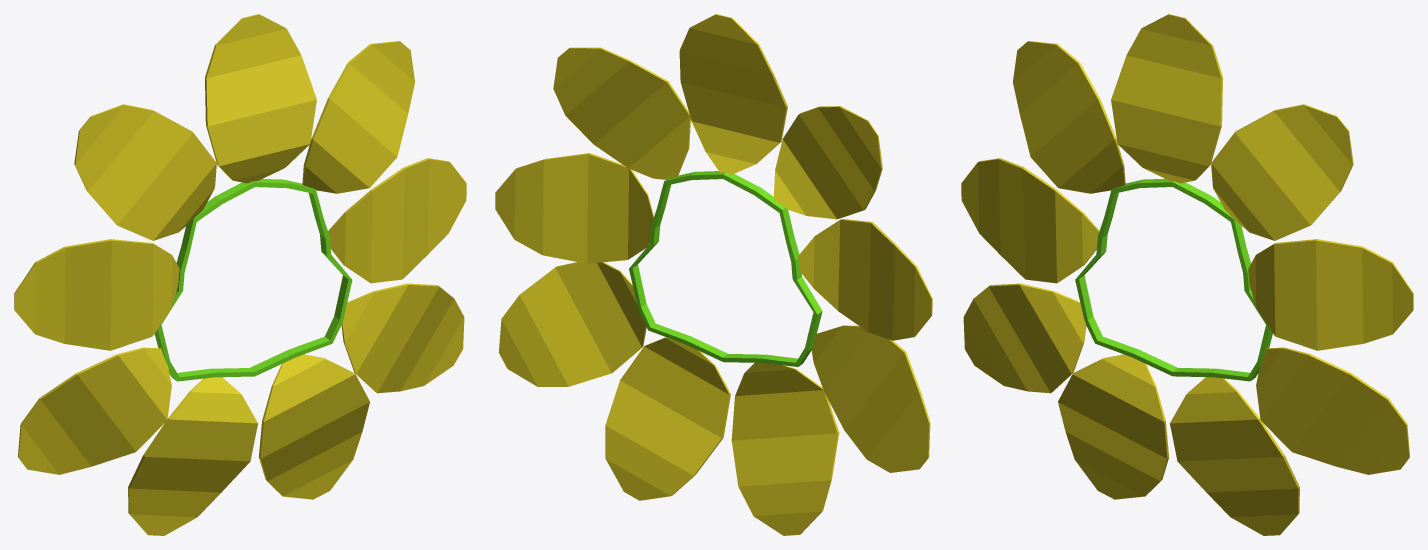
Rendered from MSH_Flor.fbx.
3 views of the same model, side by side, from view 1: azimuth 30°, elevation 25°; view 2: azimuth 150°, elevation 25°; view 3: azimuth 330°, elevation 25° (orthographic). The views are drawn at different scales.
Parts seen in each view (by area): view 1: MSH_Flor; view 2: MSH_Flor; view 3: MSH_Flor.
Boxes of the visible parts, box(x1,y1,x2,y2) form: MSH_Flor: box(14, 14, 466, 535); MSH_Flor: box(495, 14, 932, 535); MSH_Flor: box(961, 14, 1413, 535).
Size of the model in its own units: 159 by 172 by 16.52.
Materials: 1 (1 with a texture image).
